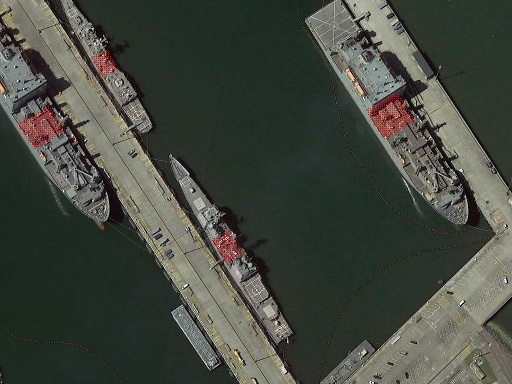ship: (303, 1, 481, 241), (160, 148, 298, 348), (1, 20, 124, 237), (56, 1, 157, 138)
